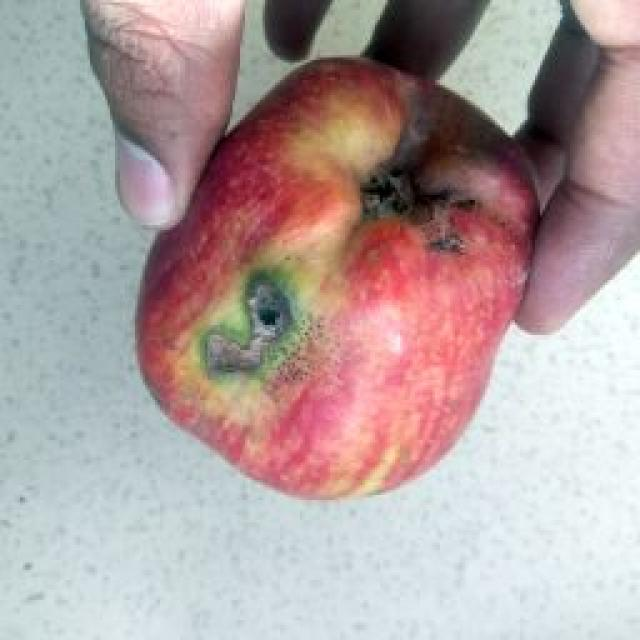Bad_Apple: (138, 59, 539, 497)
